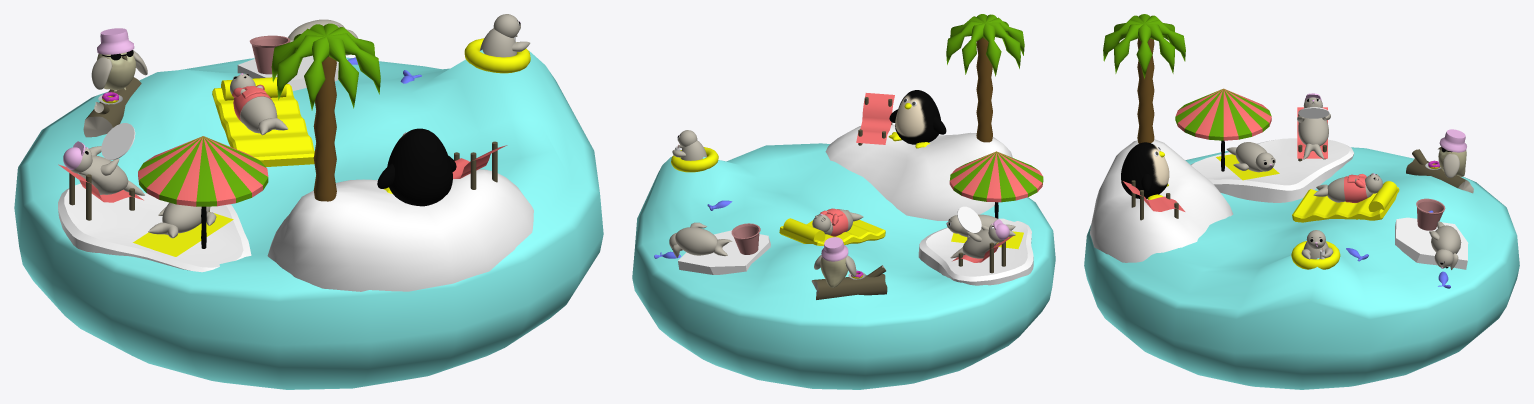
Rendered from island11.glb.
3 renders of one model, left to right at view 1: azimuth 30°, elevation 25°; view 2: azimuth 150°, elevation 25°; view 3: azimuth 270°, elevation 25°, orthographic. The views are drawn at different scales.
Visible parts, largest first — view 1: water, snowIsland, ice, palm, umbrella, swimming_mattress, pinguin1, polySurface19.001, owl, seal, pPlane2, pCylinder11 (+7 smaller); view 2: water, snowIsland, palm, ice, umbrella, pinguin1, iceCube, swimming_mattress, sunLounger1, pCylinder11, polySurface19.001, eyeR6 (+7 smaller); view 3: water, snowIsland, ice, palm, umbrella, swimming_mattress, pinguin1, iceCube, seal, polySurface19.001, owl, eyeR6 (+7 smaller).
Boxes of the visible parts, x1,y1,x2,y2 form: water: (14,49,603,389); snowIsland: (267,169,533,291); ice: (58,183,251,272); palm: (271,23,380,201); umbrella: (138,136,268,248); swimming_mattress: (212,77,314,166); pinguin1: (377,128,456,206); polySurface19.001: (464,14,530,73); owl: (91,28,147,91); seal: (230,73,287,135); pPlane2: (133,213,233,256); pCylinder11: (83,77,141,137); water: (632,143,1055,389); snowIsland: (825,124,1012,220); palm: (946,14,1024,142); ice: (918,218,1033,285); umbrella: (949,151,1043,218); pinguin1: (888,90,946,148); iceCube: (678,230,770,274); swimming_mattress: (779,218,885,245); sunLounger1: (856,93,894,145); pCylinder11: (811,265,887,299); polySurface19.001: (671,130,718,172); eyeR6: (669,222,732,257); water: (1084,147,1519,389); snowIsland: (1090,139,1233,262); ice: (1191,138,1354,202); palm: (1103,14,1185,143); umbrella: (1175,88,1271,171); swimming_mattress: (1292,181,1399,222); pinguin1: (1121,142,1169,199); iceCube: (1395,217,1468,269); seal: (1313,173,1382,202); polySurface19.001: (1291,230,1340,269); owl: (1438,129,1466,177); eyeR6: (1429,221,1461,269).
Bounding box in the file's own units: 0.1077 × 0.0807 × 0.1074.
Materials: 21 (3 with a texture image).
